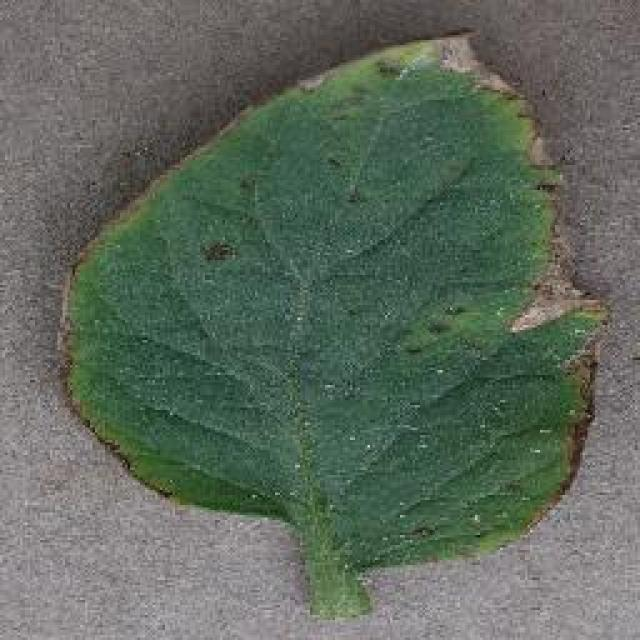Tomato___Bacterial_spot: (57, 28, 616, 621)
